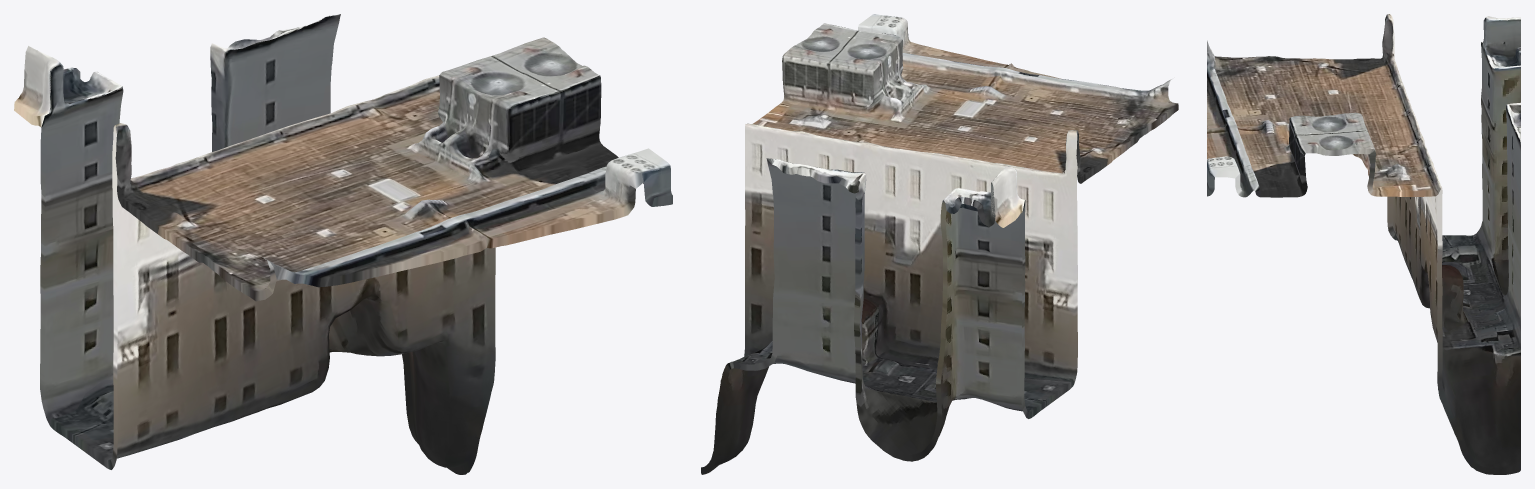
File: z20-167757-405237-h0-yup-uvflip-v3-world.glb
The picture shows the model from 3 angles, left to right: view 1: azimuth 30°, elevation 25°; view 2: azimuth 150°, elevation 25°; view 3: azimuth 270°, elevation 25°; orthographic projection. The views are drawn at different scales.
Size of the model in its own units: 30.2 by 35.24 by 30.32.
1 material, 1 textured.
